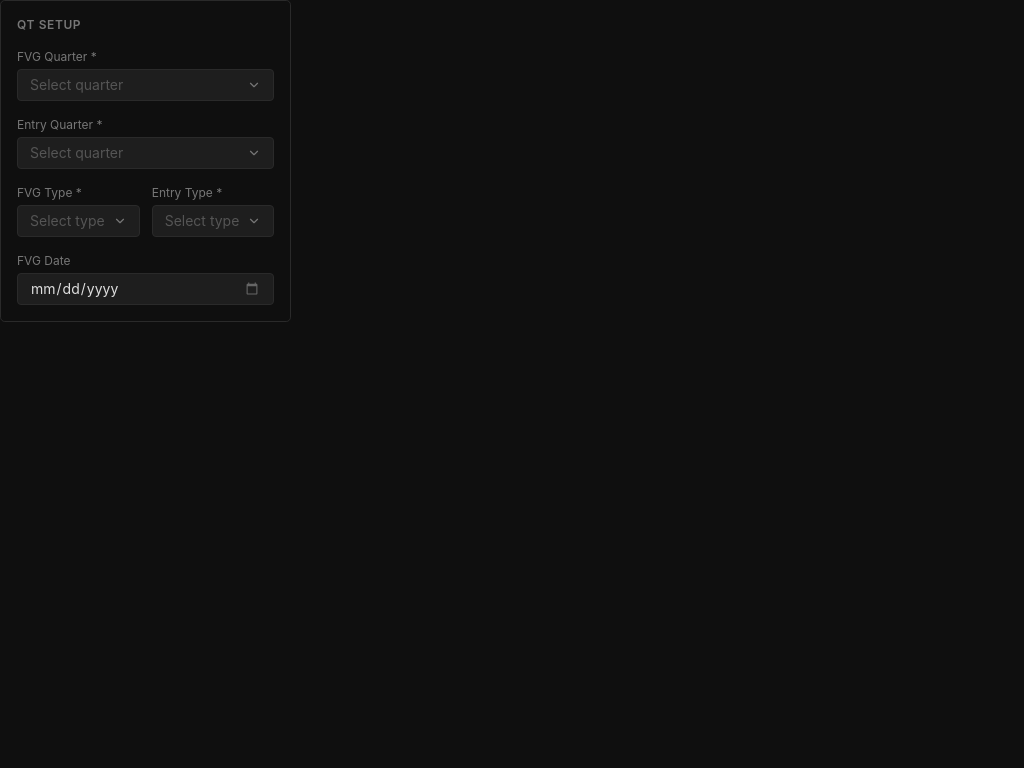
QtTradeFields — quarter options › Entry Type dropdown contains Limit FVG Edge and Market MSS options
The width and height of the screenshot is (1024, 768).
Click the dropdown labelled "Select type" below "Entry Type *": (213, 221) [152,205,274,237]
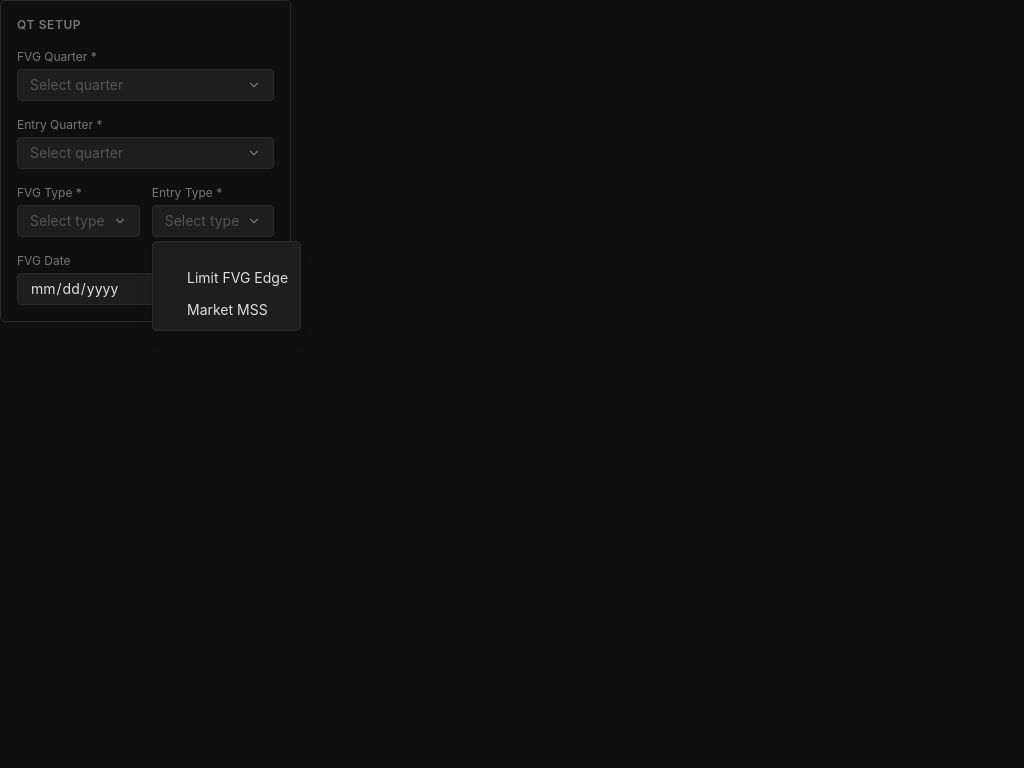
Result: the option "Limit FVG Edge" is shown at [187,269,288,286]
Result: the option "Market MSS" is shown at [187,301,268,318]
